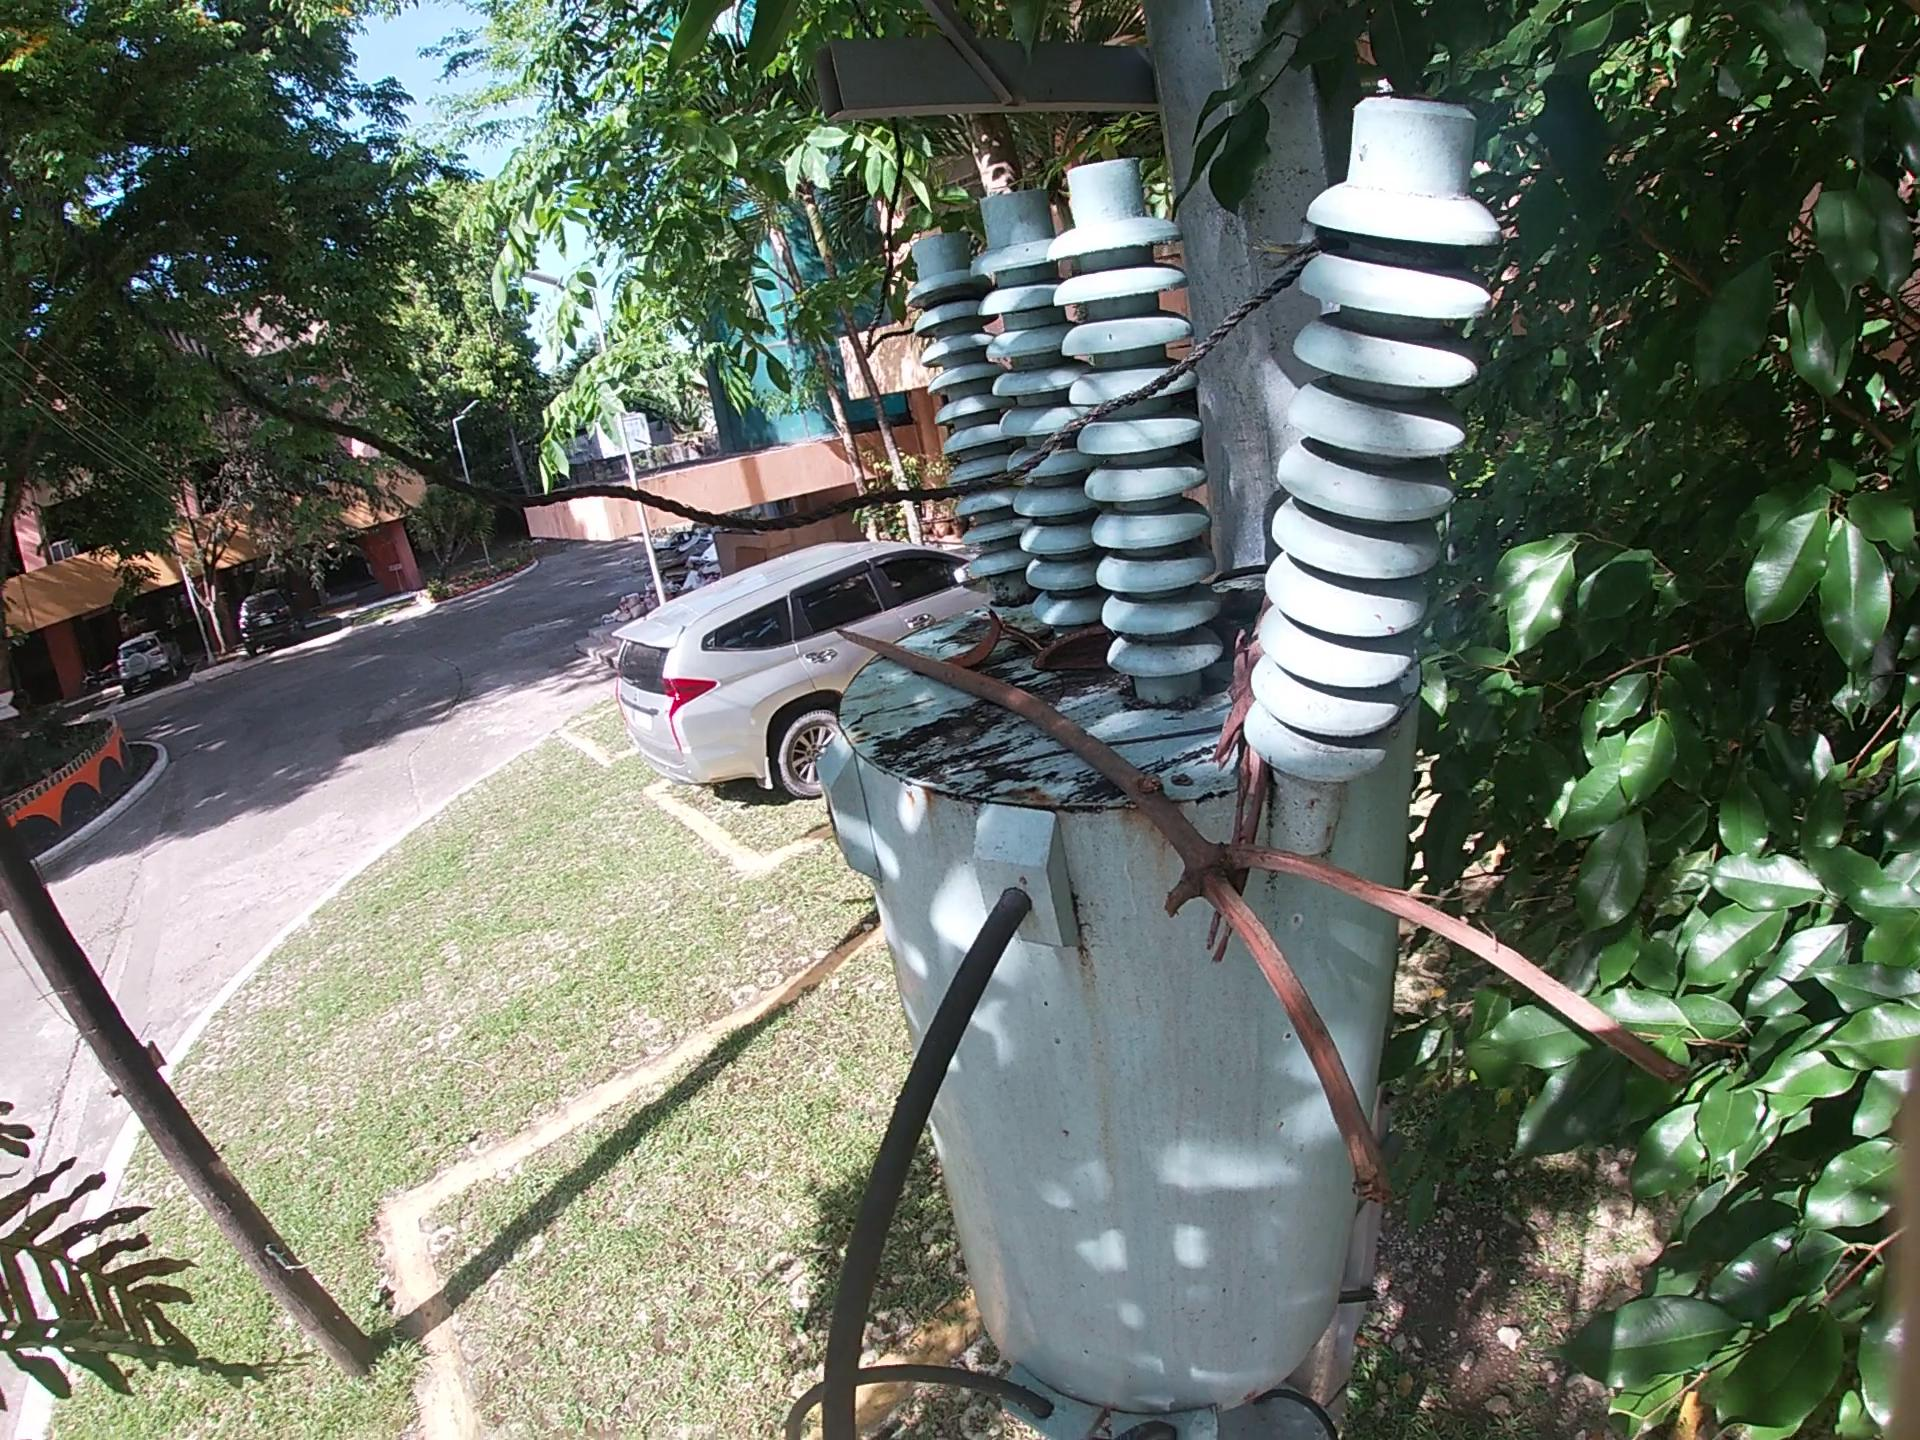mahogany fruit: (1027, 637, 1108, 694), (946, 610, 1002, 663), (1214, 616, 1256, 672)
tree branch: (830, 625, 1714, 1215), (1208, 585, 1281, 980), (928, 722, 1231, 787), (1203, 564, 1277, 593), (1212, 591, 1274, 625), (1005, 628, 1048, 659)
